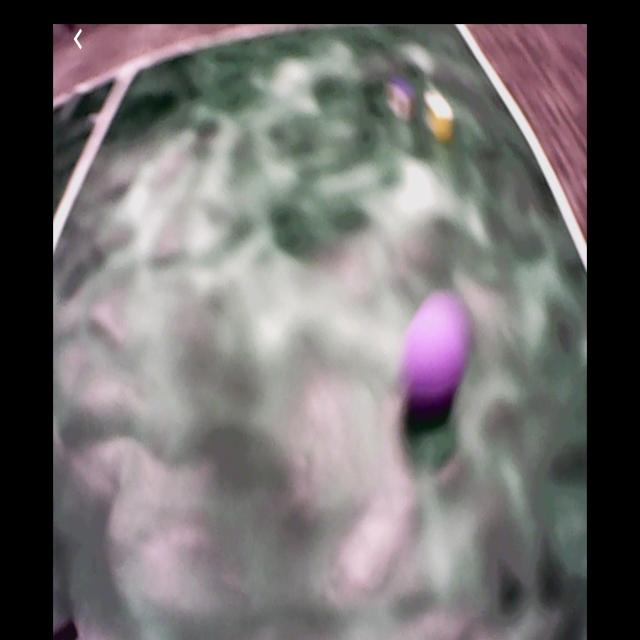ball: (407, 293, 469, 406)
